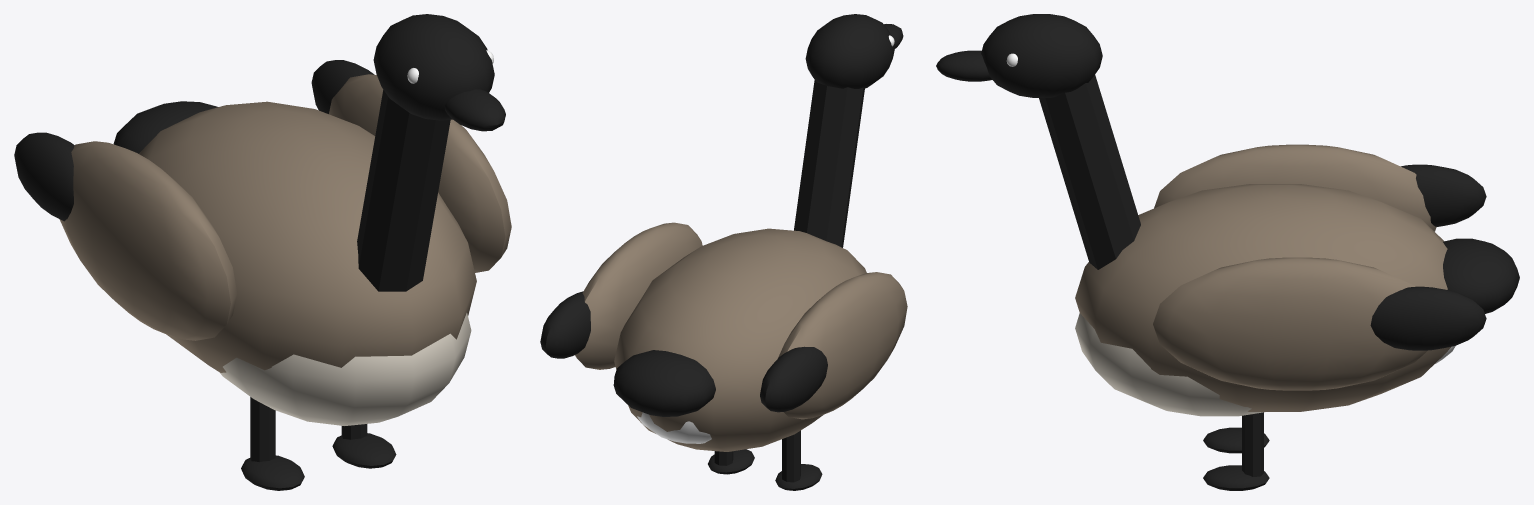
The model's file is foot_goose.glb.
The picture shows the model from 3 angles, left to right: view 1: azimuth 30°, elevation 25°; view 2: azimuth 150°, elevation 25°; view 3: azimuth 270°, elevation 25°; orthographic projection. The views are drawn at different scales.
Visible parts, largest first — view 1: Body, Wing_R, Neck, Wing_L, Leg_R, Leg_L; view 2: Body, Wing_R, Neck, Wing_L, Leg_R, Leg_L; view 3: Body, Wing_L, Neck, Wing_R, Leg_L, Leg_R.
Part boxes in pixels (left/top/right/bottom): Body: left=113, top=101, right=476, bottom=425; Wing_R: left=14, top=132, right=237, bottom=340; Neck: left=357, top=14, right=505, bottom=291; Wing_L: left=311, top=60, right=511, bottom=272; Leg_R: left=241, top=397, right=304, bottom=490; Leg_L: left=332, top=424, right=396, bottom=468; Body: left=613, top=228, right=866, bottom=451; Wing_R: left=760, top=272, right=907, bottom=419; Neck: left=794, top=14, right=903, bottom=247; Wing_L: left=540, top=222, right=702, bottom=369; Leg_R: left=775, top=430, right=822, bottom=490; Leg_L: left=708, top=449, right=754, bottom=474; Body: left=1075, top=184, right=1519, bottom=416; Wing_L: left=1153, top=257, right=1486, bottom=390; Neck: left=936, top=14, right=1140, bottom=269; Wing_R: left=1154, top=144, right=1486, bottom=231; Leg_L: left=1203, top=412, right=1269, bottom=490; Leg_R: left=1203, top=427, right=1269, bottom=453.
Bounding box in the file's own units: 0.6077 × 0.891 × 1.05.
